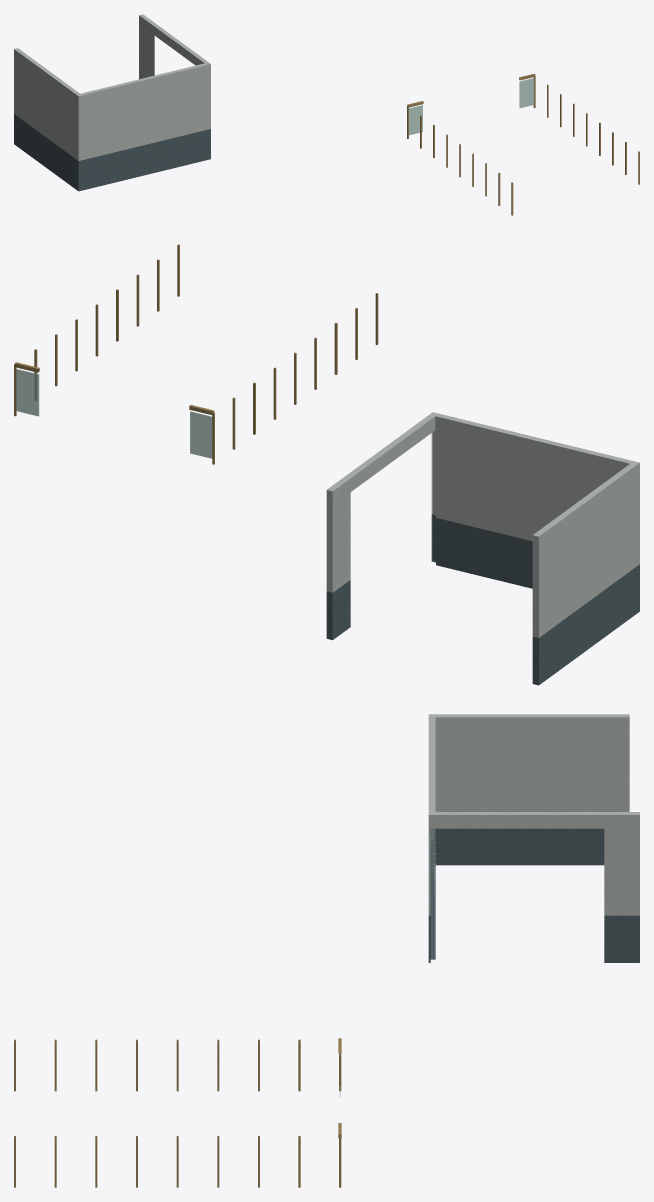
Rendered from TidalD17NamedGuardPatch.glb.
3 renders of one model, top to bottom at view 1: azimuth 30°, elevation 25°; view 2: azimuth 150°, elevation 25°; view 3: azimuth 270°, elevation 25°, orthographic. The views are drawn at different scales.
Parts seen in each view (by area): view 1: screen_wall_staff_white_paint_D17_-3_-61, screen_wall_staff_bluegrey_paint_D17_-3_-61, TG_Batch_224, TG_Batch_226; view 2: screen_wall_staff_white_paint_D17_-3_-61, screen_wall_staff_bluegrey_paint_D17_-3_-61, TG_Batch_224, TG_Batch_226; view 3: screen_wall_staff_white_paint_D17_-3_-61, screen_wall_staff_bluegrey_paint_D17_-3_-61, TG_Batch_224.
Part boxes in pixels (x1,y1,x2,y2): screen_wall_staff_white_paint_D17_-3_-61: [14, 14, 210, 160]; screen_wall_staff_bluegrey_paint_D17_-3_-61: [14, 114, 210, 191]; TG_Batch_224: [407, 73, 639, 215]; TG_Batch_226: [409, 78, 534, 135]; screen_wall_staff_white_paint_D17_-3_-61: [326, 412, 639, 637]; screen_wall_staff_bluegrey_paint_D17_-3_-61: [326, 513, 639, 685]; TG_Batch_224: [14, 244, 378, 464]; TG_Batch_226: [16, 369, 212, 458]; screen_wall_staff_white_paint_D17_-3_-61: [428, 714, 639, 915]; screen_wall_staff_bluegrey_paint_D17_-3_-61: [428, 828, 639, 962]; TG_Batch_224: [14, 1038, 341, 1187].
Size of the model in its own units: 15.07 by 3.2 by 12.25.
4 materials, 3 textured.
